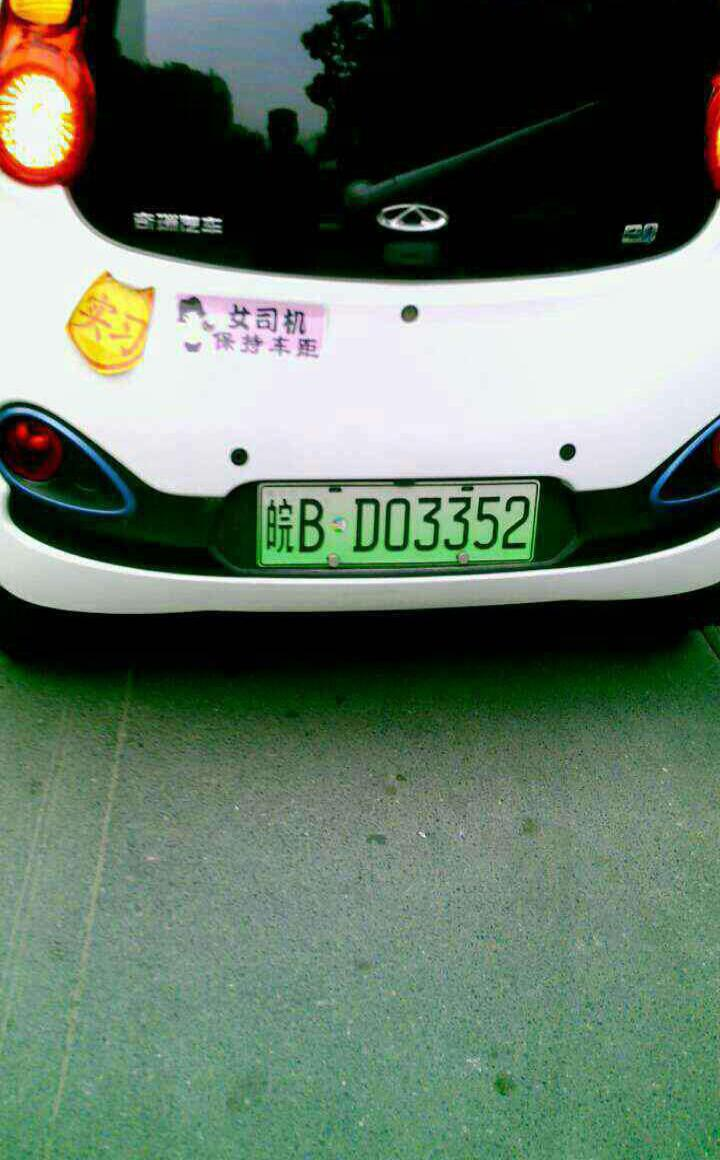car_id: (258, 484, 540, 560)
